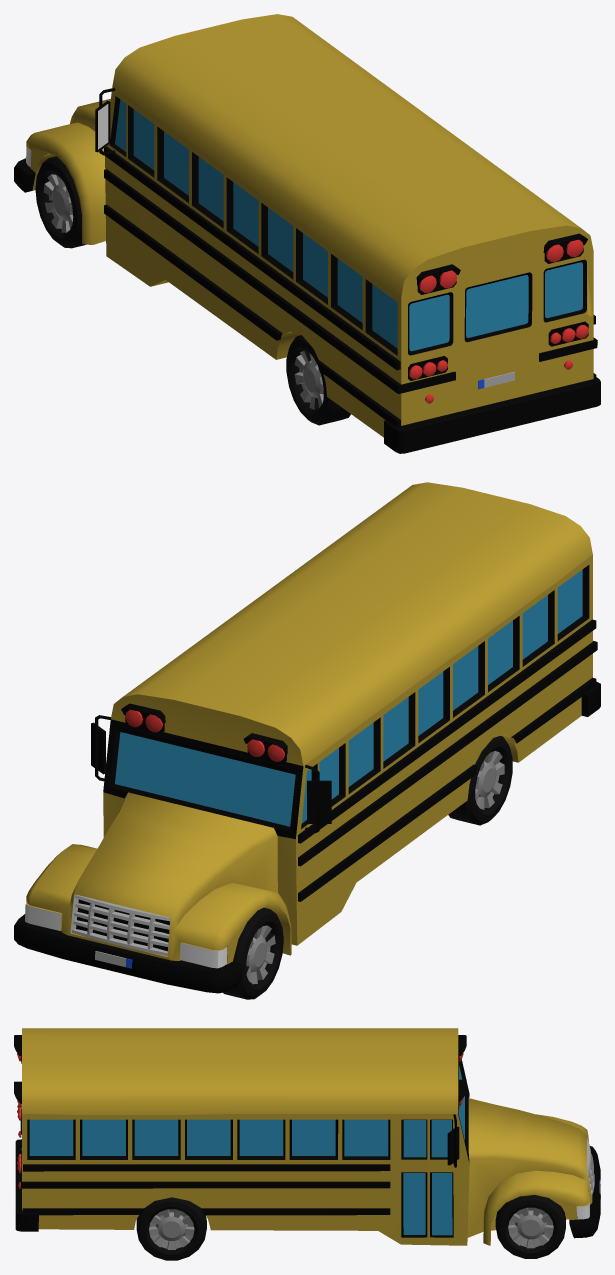
Rendered from bus-1.fbx.
The picture shows the model from 3 angles, top to bottom: view 1: azimuth 30°, elevation 25°; view 2: azimuth 150°, elevation 25°; view 3: azimuth 270°, elevation 25°; orthographic projection. The views are drawn at different scales.
Visible parts, largest first — view 1: bus, on_teker, arka_teker; view 2: bus, on_teker, arka_teker; view 3: bus, on_teker, arka_teker.
Part boxes in pixels (x1=…): bus: x1=14, y1=14, x2=600, y2=453; on_teker: x1=35, y1=156, x2=85, y2=248; arka_teker: x1=286, y1=335, x2=350, y2=425; bus: x1=14, y1=482, x2=600, y2=993; on_teker: x1=223, y1=907, x2=283, y2=999; arka_teker: x1=448, y1=736, x2=512, y2=825; bus: x1=14, y1=1028, x2=600, y2=1245; on_teker: x1=495, y1=1195, x2=565, y2=1258; arka_teker: x1=136, y1=1197, x2=206, y2=1260.
Bounding box in the file's own units: 1413 × 1311 × 3964.
